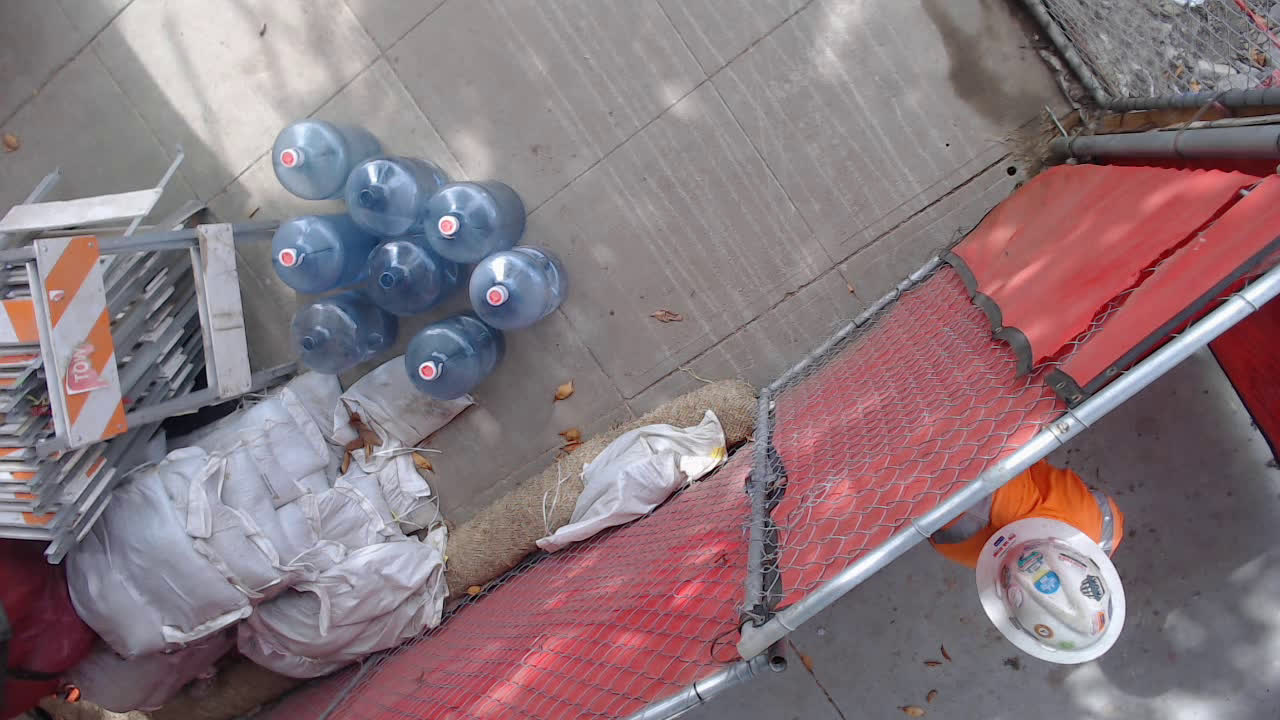hardhat: (975, 516, 1125, 665)
safetyvest: (934, 463, 1131, 565)
